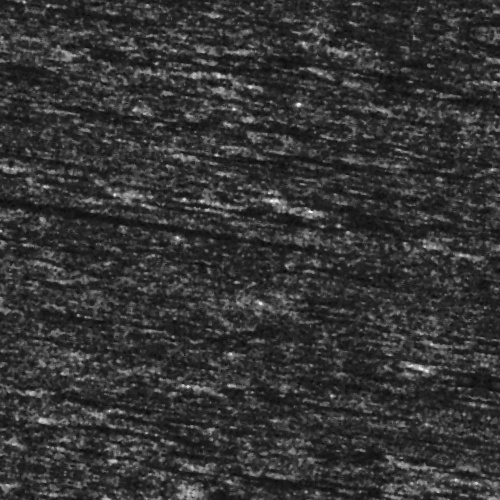object: (129, 154, 202, 167)
shadow: (0, 233, 283, 244), (166, 154, 341, 167), (0, 137, 11, 144)
